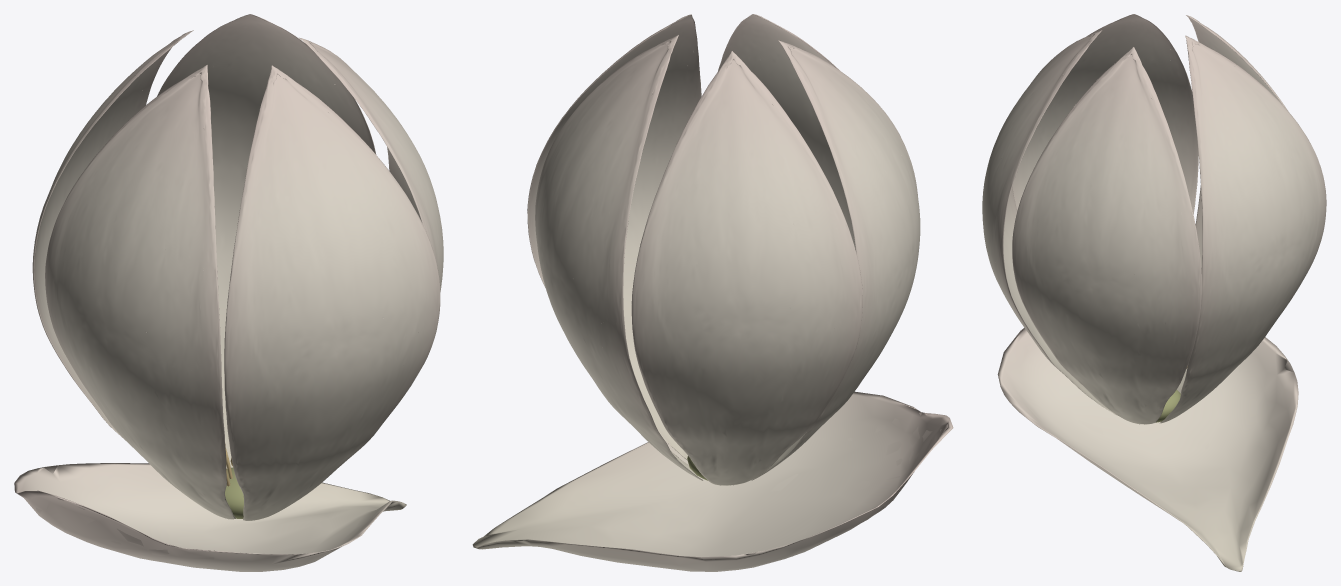
The model's file is soft-lotus-candidate.glb.
3 views of the same model, side by side, from view 1: azimuth 30°, elevation 25°; view 2: azimuth 150°, elevation 25°; view 3: azimuth 270°, elevation 25° (orthographic). The views are drawn at different scales.
Parts seen in each view (by area): view 1: Petal_selvedge, Petal_perch, Decor_Petal, Petal_contact, Petal_about, Petal_forme, Organic_Center; view 2: Petal_about, Decor_Petal, Petal_contact, Petal_perch, Petal_forme, Petal_selvedge; view 3: Petal_forme, Petal_contact, Decor_Petal, Petal_perch, Petal_selvedge, Petal_about.
Part boxes in pixels (<box>): Petal_selvedge: <box>224,65,440,521</box>; Petal_perch: <box>45,64,235,519</box>; Decor_Petal: <box>14,463,406,571</box>; Petal_contact: <box>157,14,376,468</box>; Petal_about: <box>32,30,193,440</box>; Petal_forme: <box>299,37,443,291</box>; Organic_Center: <box>225,444,243,518</box>; Petal_about: <box>631,51,862,485</box>; Decor_Petal: <box>472,391,953,571</box>; Petal_contact: <box>535,35,702,480</box>; Petal_perch: <box>751,40,920,480</box>; Petal_forme: <box>527,14,701,460</box>; Petal_selvedge: <box>718,14,855,249</box>; Petal_forme: <box>1012,47,1201,424</box>; Petal_contact: <box>1159,35,1326,423</box>; Decor_Petal: <box>997,327,1298,571</box>; Petal_perch: <box>1012,14,1198,213</box>; Petal_selvedge: <box>982,30,1117,415</box>; Petal_about: <box>1177,15,1288,393</box>.
Bounding box in the file's own units: 3.16 × 3.99 × 2.68.
